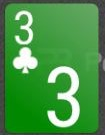Clover: (12, 47, 39, 73)
